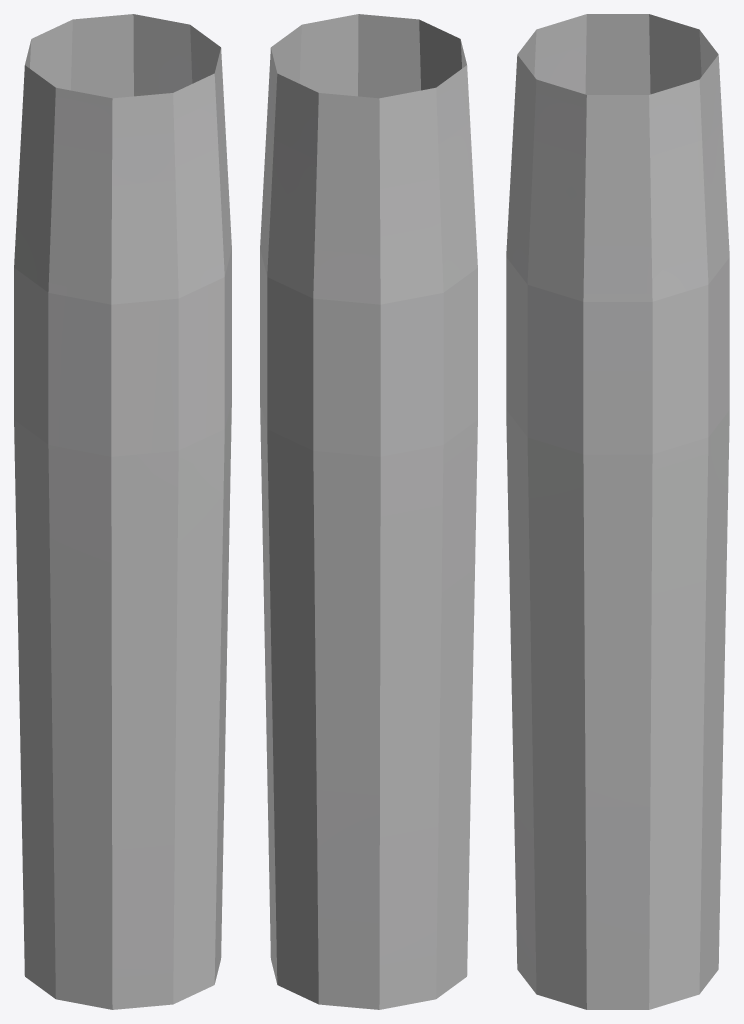
File: Museum_InteriorPillar.fbx
3 views of the same model, side by side, from view 1: azimuth 30°, elevation 25°; view 2: azimuth 150°, elevation 25°; view 3: azimuth 270°, elevation 25° (orthographic).
Parts seen in each view (by area): view 1: Cylinder; view 2: Cylinder; view 3: Cylinder.
Boxes of the visible parts, x1,y1,x2,y2 form: Cylinder: (14, 14, 231, 1009); Cylinder: (260, 14, 477, 1009); Cylinder: (506, 14, 729, 1009).
Bounding box in the file's own units: 2.11 × 10.02 × 2.22.
